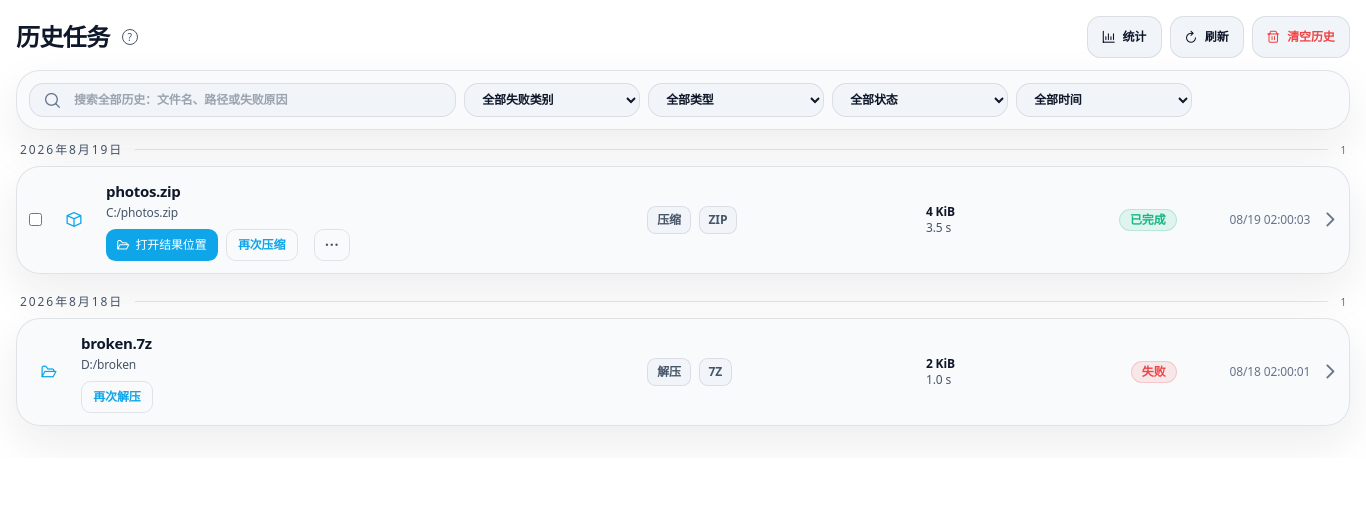
HistoryView › 默认展示全部时间，清除条件后重新查找全部历史
Expected: the element with test id "history-list" shows "photos.zip", [106,181,181,201]
Type "不存在的名字" into the field with test id "history-search".
click(242, 100); type("不存在的名字")  # box [29,83,456,117]
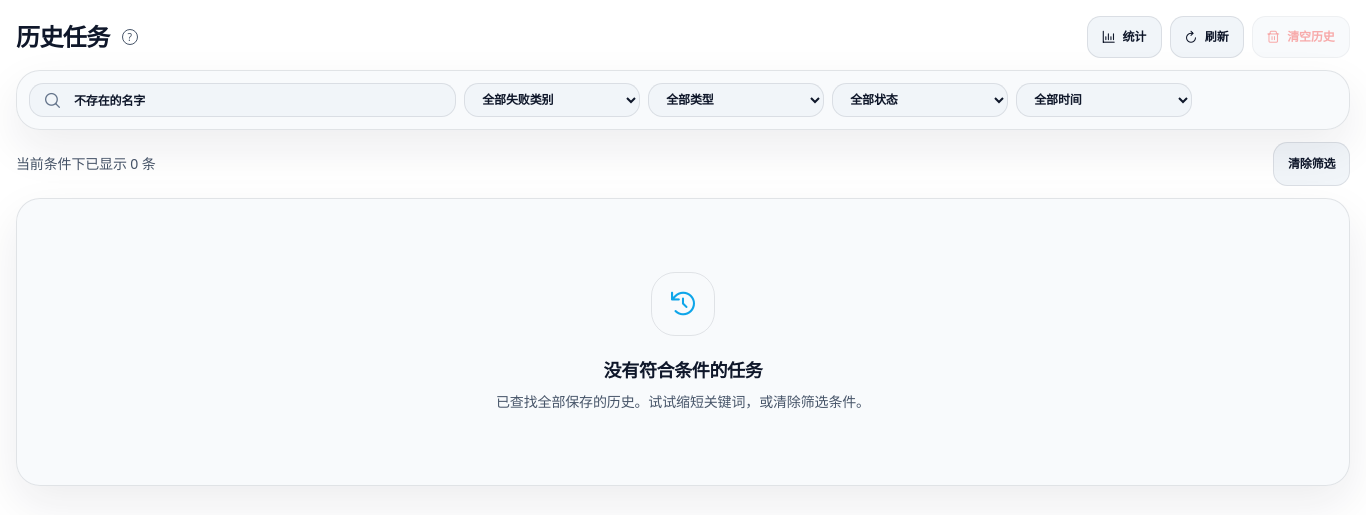
Expected: the element with test id "history-empty" shows "没有符合条件", [604,358,762,382]
Click the button with test id "history-reset-filters".
click(1312, 164)  # box [1273,142,1350,186]
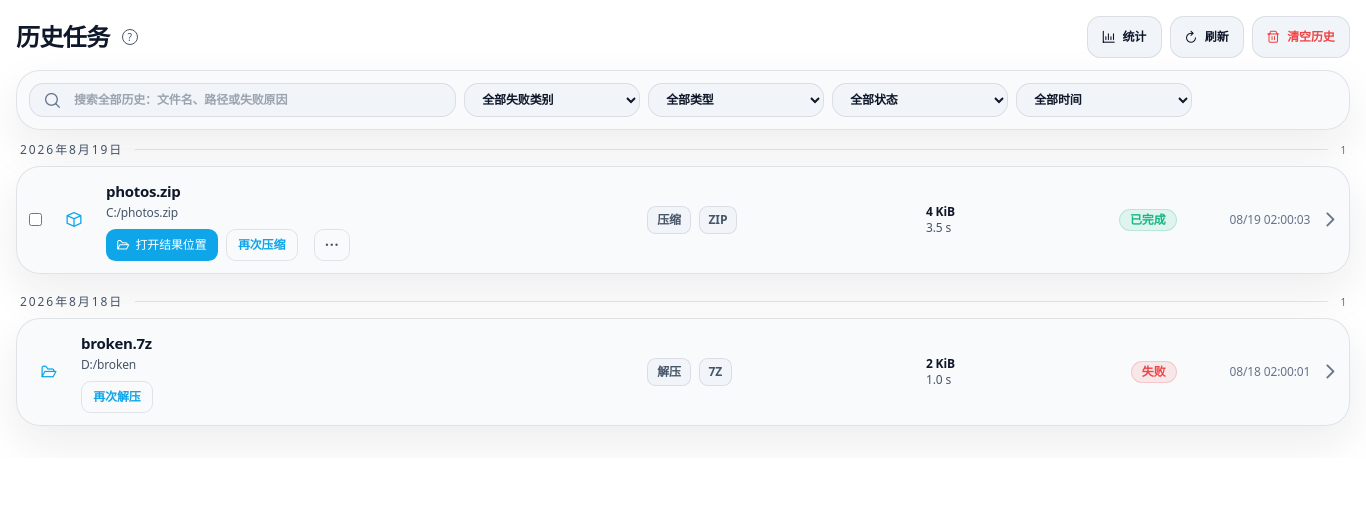
Expected: the element with test id "history-list" shows "photos.zip", [106,181,181,201]
Expected: the element with test id "history-list" shows "broken.7z", [81,333,152,353]
